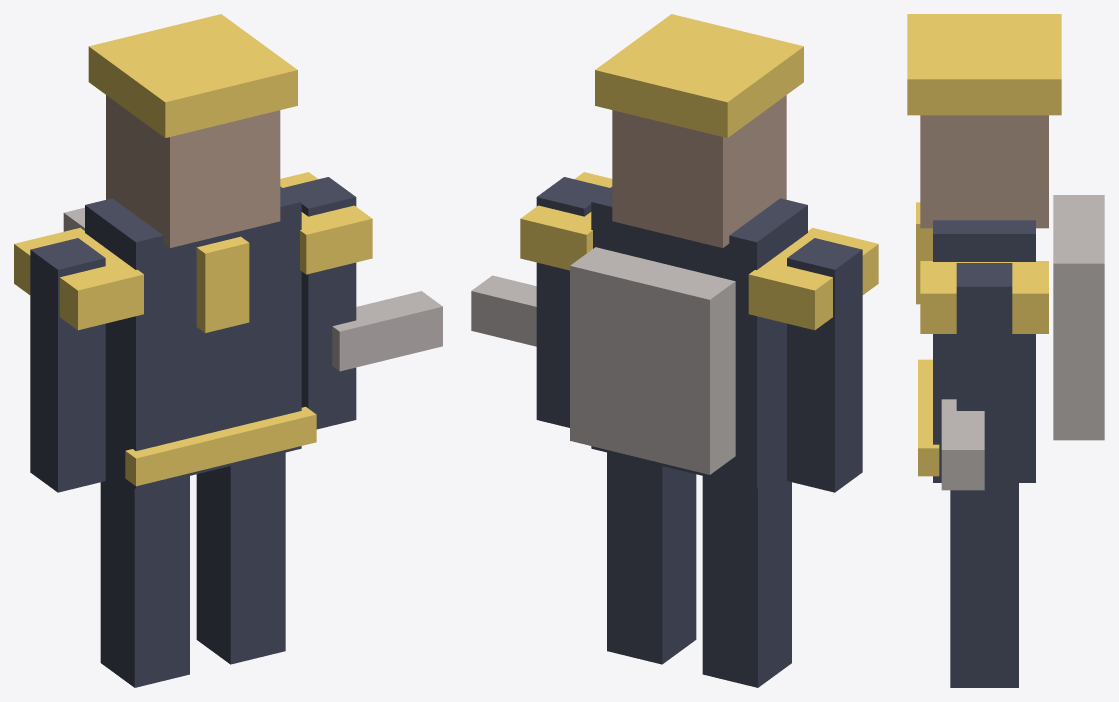
The model's file is 02_mirek_chromabell_runner_at_voidwatch.glb.
3 views of the same model, side by side, from view 1: azimuth 30°, elevation 25°; view 2: azimuth 150°, elevation 25°; view 3: azimuth 270°, elevation 25° (orthographic).
Parts seen in each view (by area): view 1: Mirek Chromabell, Runner at Voidwatch; view 2: Mirek Chromabell, Runner at Voidwatch; view 3: Mirek Chromabell, Runner at Voidwatch.
Boxes of the visible parts, x1=… form: Mirek Chromabell, Runner at Voidwatch: x1=14, y1=14, x2=442, y2=687; Mirek Chromabell, Runner at Voidwatch: x1=471, y1=14, x2=878, y2=687; Mirek Chromabell, Runner at Voidwatch: x1=907, y1=14, x2=1104, y2=687.
Bounding box in the file's own units: 1.07 × 1.62 × 0.4784.
